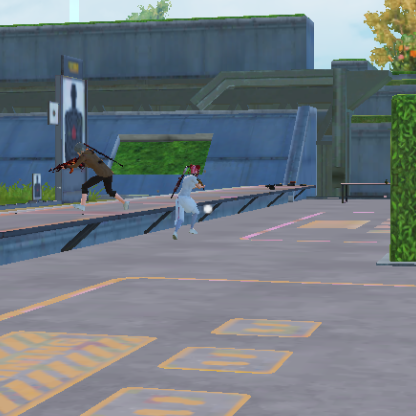ren: (73, 141, 115, 209), (170, 164, 201, 239)
tou: (75, 142, 87, 157), (189, 164, 200, 178)
